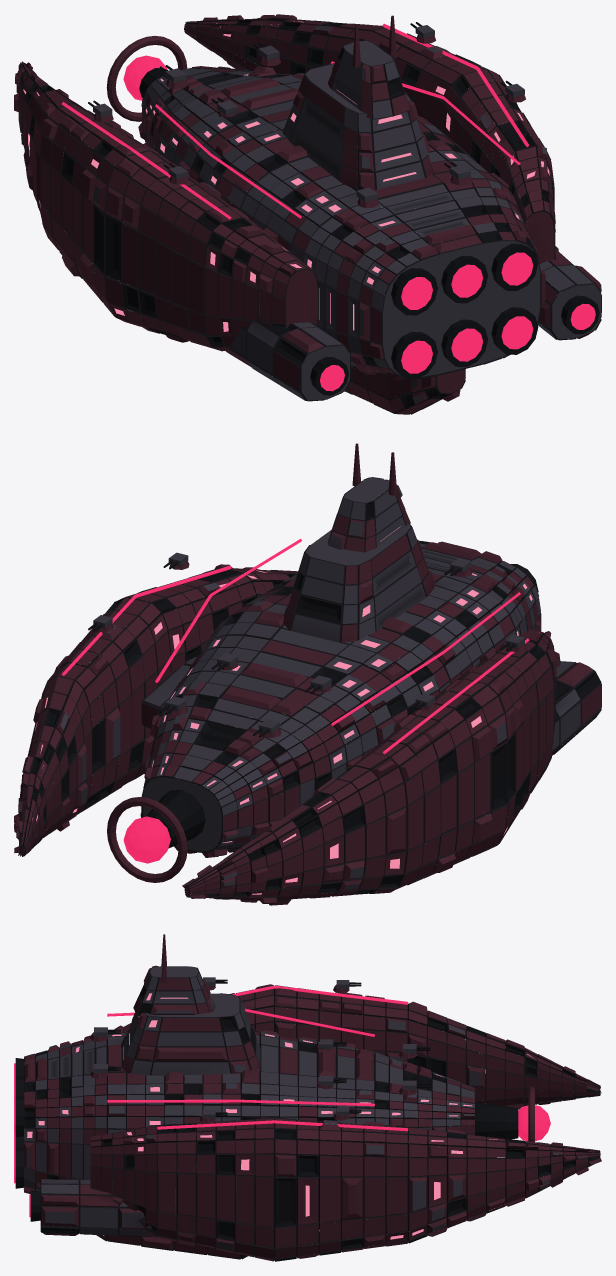
The model's file is eclipse.glb.
3 views of the same model, one above another, from view 1: azimuth 30°, elevation 25°; view 2: azimuth 150°, elevation 25°; view 3: azimuth 270°, elevation 25° (orthographic). The views are drawn at different scales.
Parts seen in each view (by area): view 1: eclipse; view 2: eclipse; view 3: eclipse.
Boxes of the visible parts, x1=… form: eclipse: x1=14, y1=14, x2=601, y2=414; eclipse: x1=14, y1=443, x2=601, y2=905; eclipse: x1=14, y1=934, x2=601, y2=1261.
Size of the model in its own units: 2192 by 2023 by 3400.
